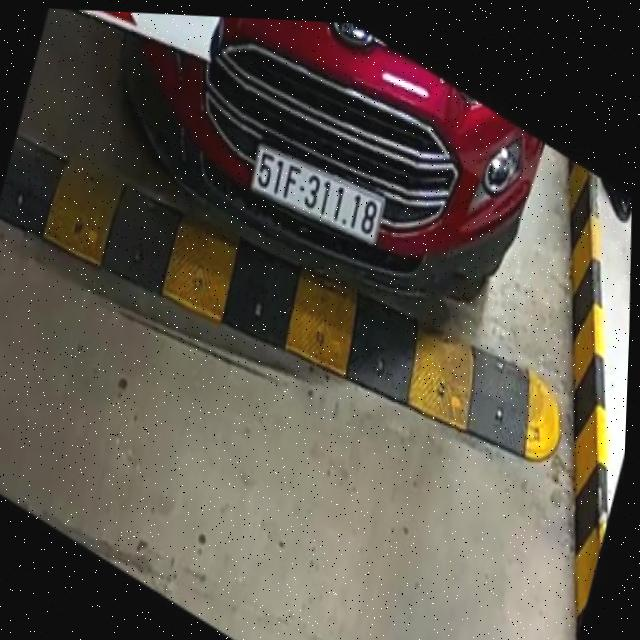car: (93, 7, 568, 327)
plate: (238, 136, 391, 255)
